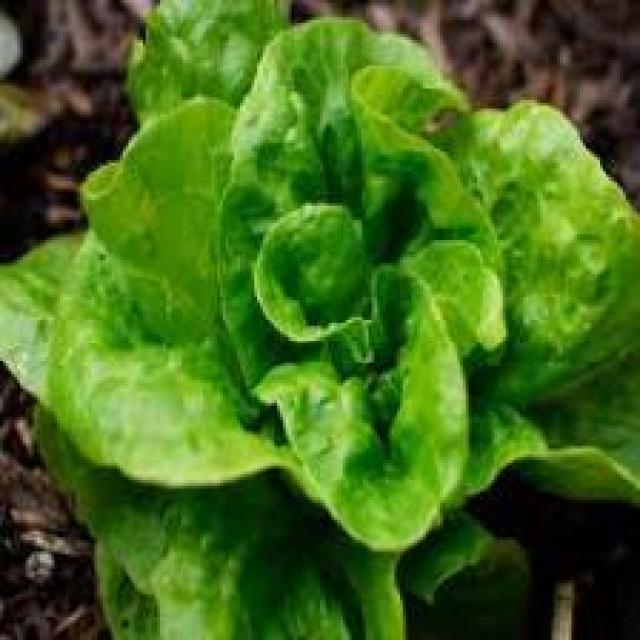Lettuce: (11, 3, 628, 640)
